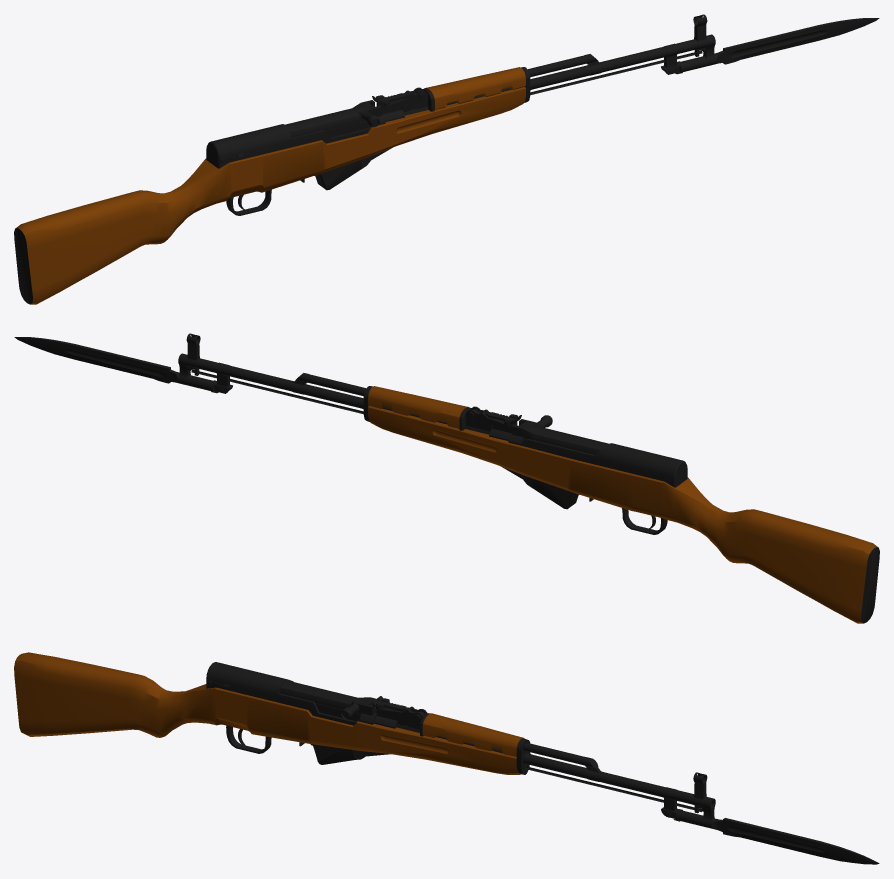
Rendered from sks.fbx.
The picture shows the model from 3 angles, top to bottom: view 1: azimuth 30°, elevation 25°; view 2: azimuth 150°, elevation 25°; view 3: azimuth 330°, elevation 25°; orthographic projection.
Visible parts, largest first — view 1: body frame; view 2: body frame; view 3: body frame.
Part boxes in pixels (bbox=[...]): body frame: bbox=[14, 14, 879, 304]; body frame: bbox=[14, 333, 879, 623]; body frame: bbox=[14, 652, 879, 864].
Bounding box in the file's own units: 388 × 53.6 × 18.07.
